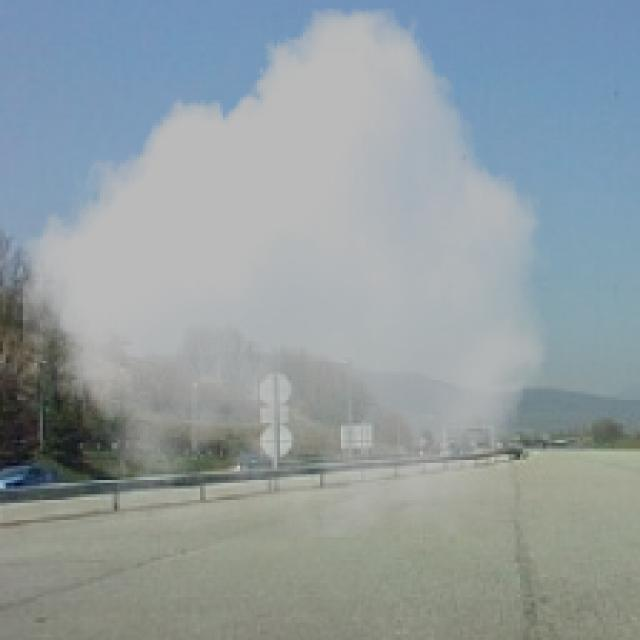smoke: (23, 9, 548, 537)
